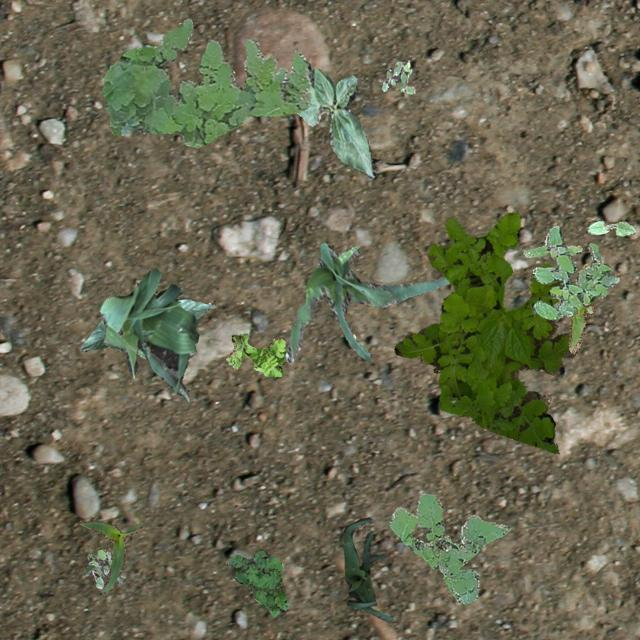crop: (284, 242, 448, 362), (99, 266, 198, 402), (296, 59, 376, 178), (80, 296, 212, 356), (342, 516, 392, 620), (77, 520, 142, 592), (568, 262, 594, 352), (586, 220, 634, 236)
weed: (394, 212, 574, 452), (102, 17, 310, 146), (388, 492, 509, 602), (522, 224, 618, 318), (225, 548, 288, 616), (224, 332, 286, 377), (84, 548, 122, 588), (380, 60, 414, 94)
